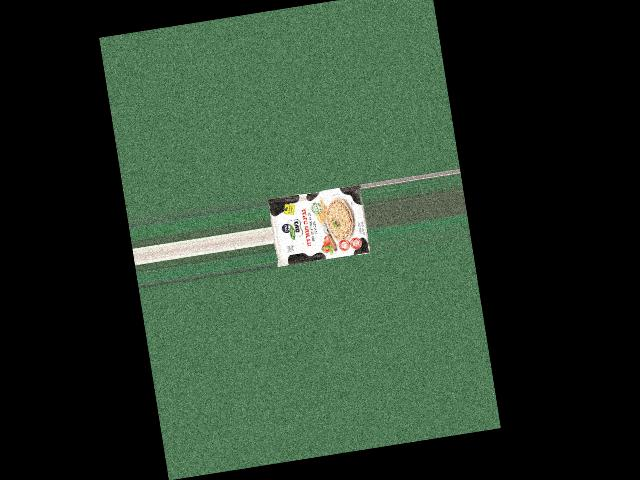cheese: (274, 183, 368, 277)
